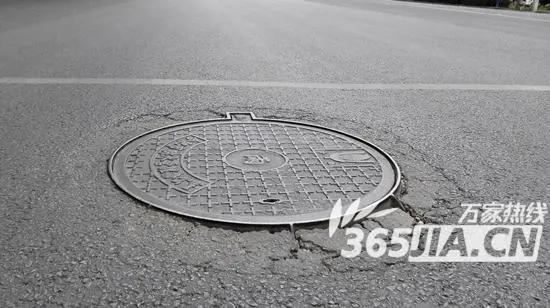wellcover: (94, 97, 438, 231)
